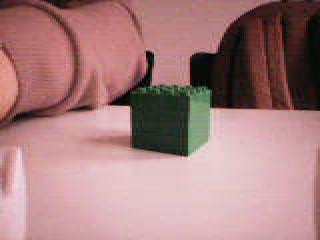legocube: (129, 82, 212, 160)
